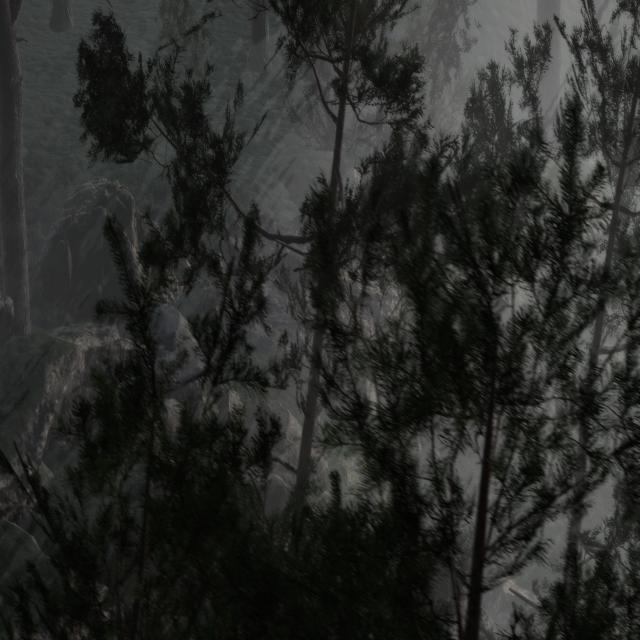Human: (292, 310, 308, 397)
